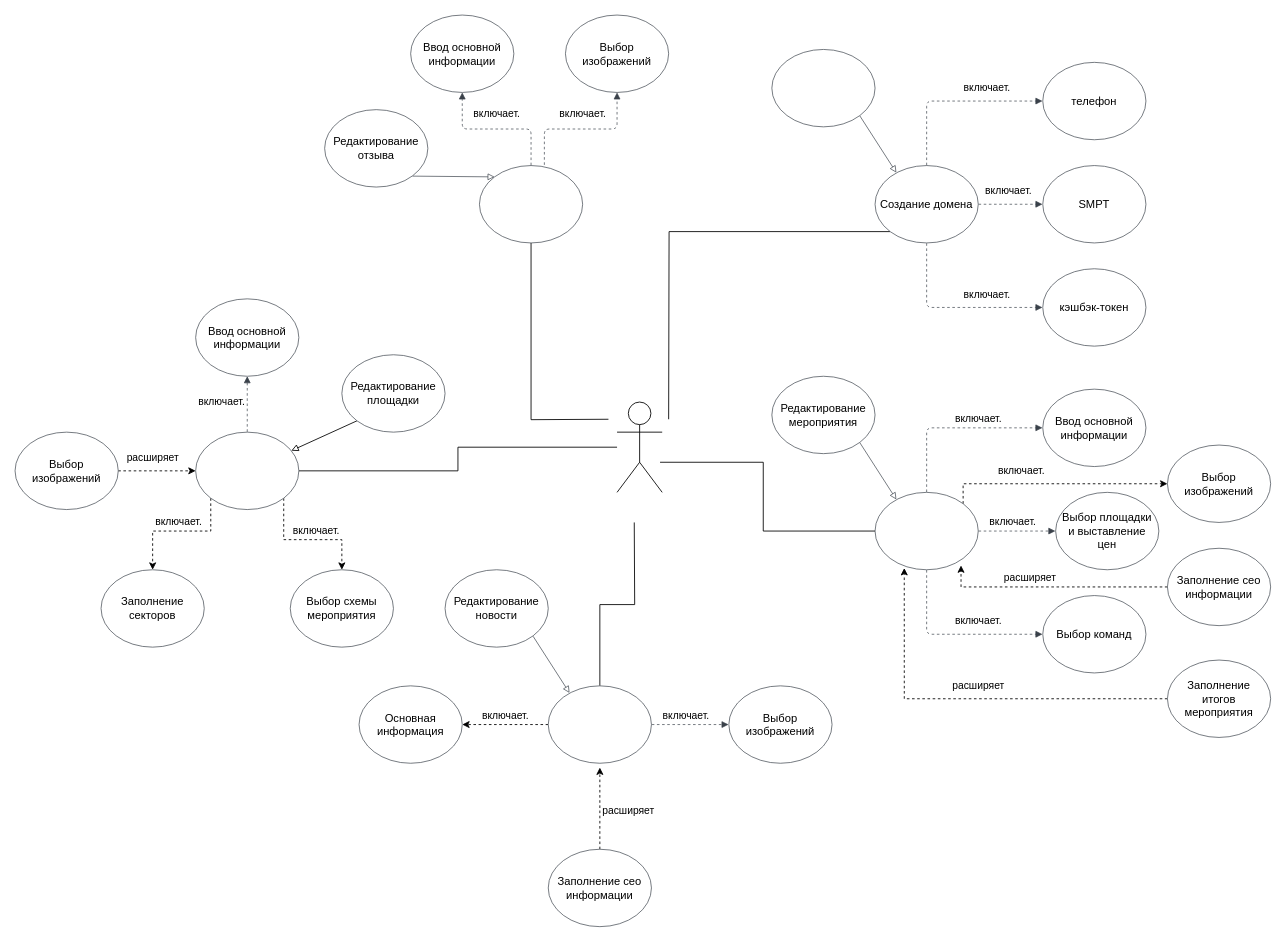
Image size: 1286x942. Some labels were removed from this diagram. Each missing label, with the centre of its shape:
"Главный администратор" goes at (x=639, y=446).
"Редактирование домена" goes at (x=823, y=88).
"Создание мероприятия" goes at (x=926, y=531).
"Создание новости" goes at (x=599, y=724).
"Создание отзыва" goes at (x=531, y=204).
"Создание площадки" goes at (x=247, y=470).
